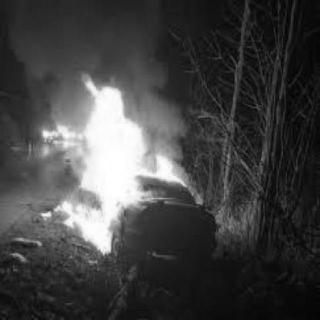Fire: (53, 75, 210, 258)
